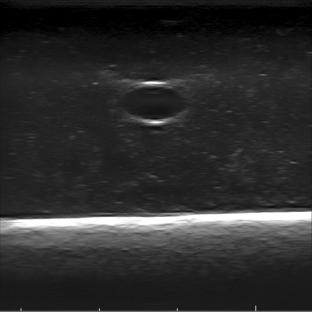vessel: (118, 80, 190, 126)
